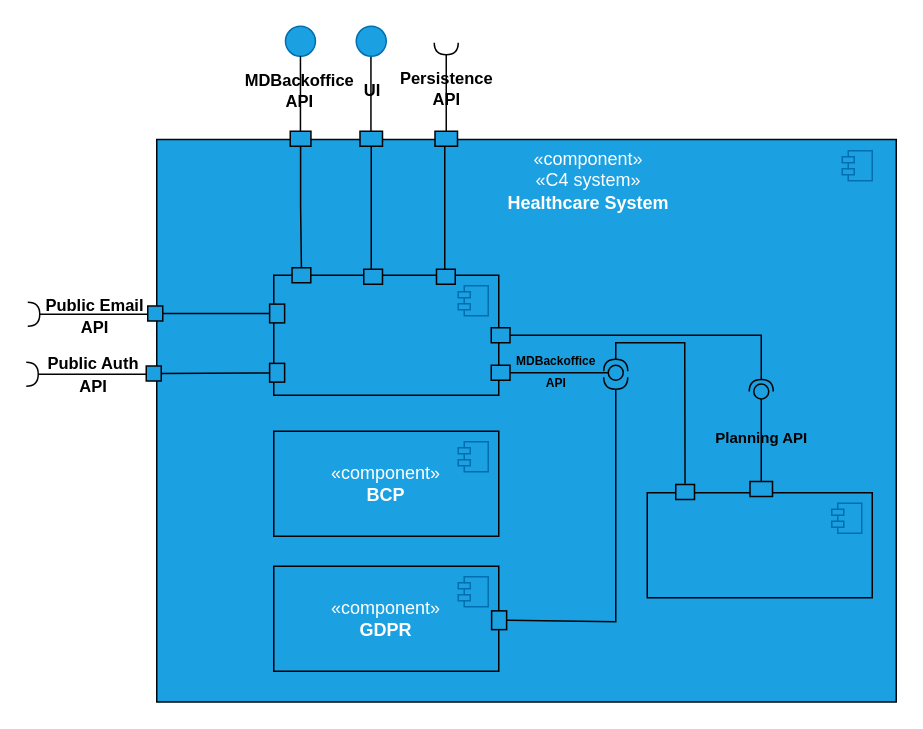
This 923x729 diagram has some shape labels left out. The centre of each missing label's shape, as x and y in pixels:
«component» WebApplication: pixel 385 334
«component» «C4 Container» Planning: pixel 759 544
